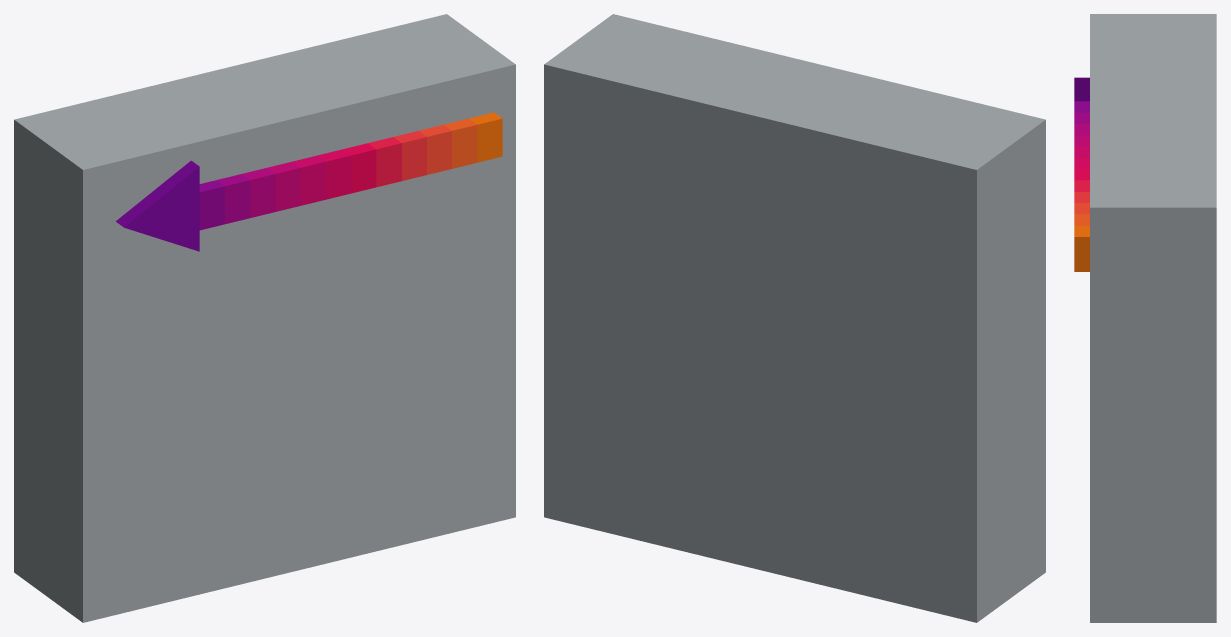
Rendered from tinker.obj.
The picture shows the model from 3 angles, left to right: view 1: azimuth 30°, elevation 25°; view 2: azimuth 150°, elevation 25°; view 3: azimuth 270°, elevation 25°; orthographic projection. The views are drawn at different scales.
Visible parts, largest first — view 1: group_0_10988977, group_0_8192161, group_0_16259401, group_0_16605215, group_0_14549102, group_0_11337872, group_0_12583045, group_0_15269986, group_0_13697146, group_0_16478727, group_0_15859798, group_0_9896089 (+2 smaller); view 2: group_0_10988977; view 3: group_0_10988977, group_0_16478727, group_0_8192161.
Part boxes in pixels (left/top/right/bottom): group_0_10988977: left=14, top=14, right=515, bottom=622; group_0_8192161: left=116, top=160, right=199, bottom=251; group_0_16259401: left=368, top=137, right=401, bottom=187; group_0_16605215: left=444, top=118, right=477, bottom=168; group_0_14549102: left=292, top=155, right=325, bottom=205; group_0_11337872: left=216, top=174, right=250, bottom=224; group_0_12583045: left=242, top=168, right=275, bottom=217; group_0_15269986: left=318, top=149, right=351, bottom=199; group_0_13697146: left=267, top=161, right=300, bottom=211; group_0_16478727: left=469, top=112, right=502, bottom=162; group_0_15859798: left=343, top=143, right=376, bottom=193; group_0_9896089: left=199, top=180, right=224, bottom=230; group_0_10988977: left=544, top=14, right=1045, bottom=622; group_0_10988977: left=1090, top=14, right=1216, bottom=622; group_0_16478727: left=1074, top=225, right=1089, bottom=271; group_0_8192161: left=1074, top=77, right=1089, bottom=101.
Bounding box in the file's own units: 1 × 1 × 0.31.
